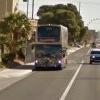Bus: (33, 23, 70, 72)
